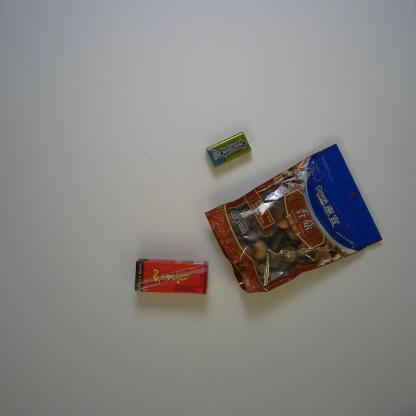Dried Food: (203, 142, 384, 295)
Drink: (133, 257, 210, 295)
Gum: (205, 131, 252, 168)
